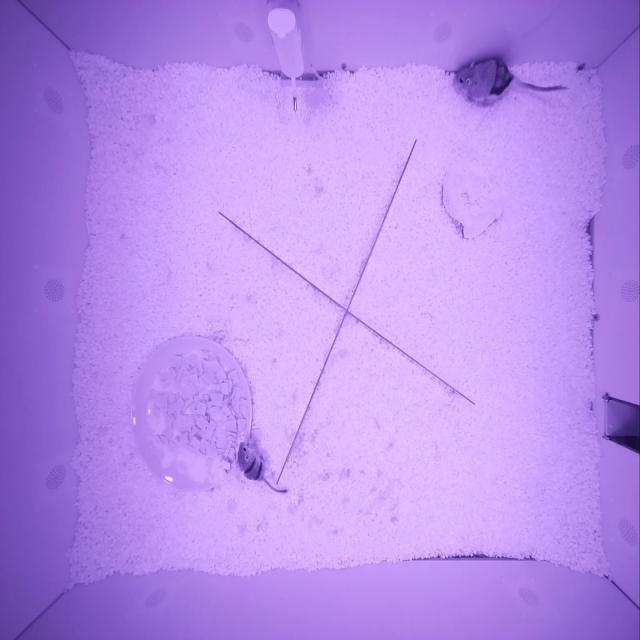adult_back: (453, 59, 513, 102)
pup_h_stripe: (236, 440, 266, 481)
